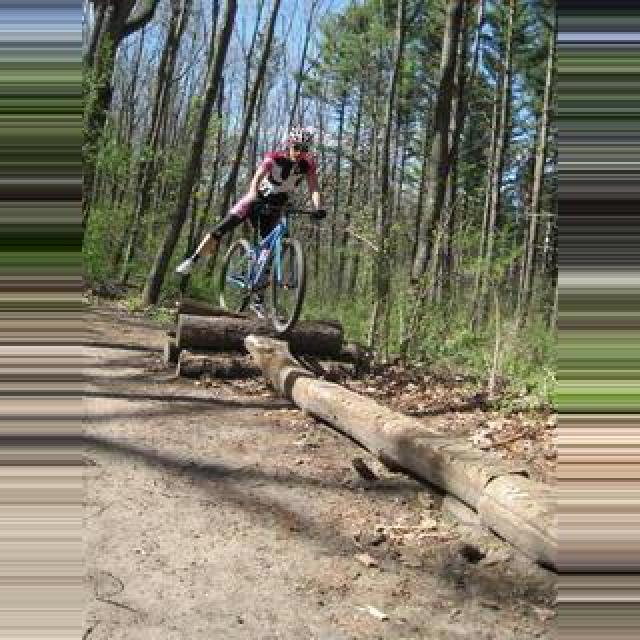MC-Bike: (210, 138, 326, 292)
Person: (187, 196, 321, 336)
